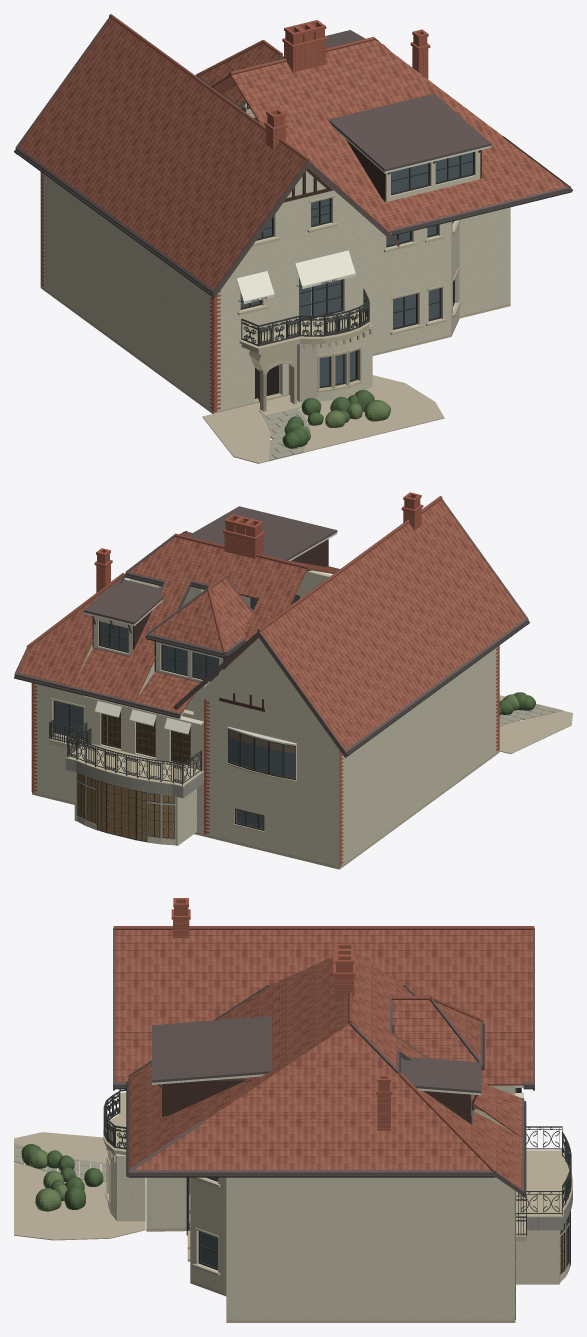
Rendered from changning-wuyi-174-dongliang-garden-villa-raw.glb.
3 views of the same model, one above another, from view 1: azimuth 30°, elevation 25°; view 2: azimuth 150°, elevation 25°; view 3: azimuth 270°, elevation 25° (orthographic). The views are drawn at different scales.
Parts seen in each view (by area): view 1: 武夷路174号花园住宅; view 2: 武夷路174号花园住宅; view 3: 武夷路174号花园住宅.
Part boxes in pixels (x1,y1,x2,y2): 武夷路174号花园住宅: (14,14,572,463); 武夷路174号花园住宅: (14,492,572,869); 武夷路174号花园住宅: (14,898,572,1322).
Size of the model in its own units: 17.22 by 11.9 by 20.6.
Materials: 25 (3 with a texture image).
